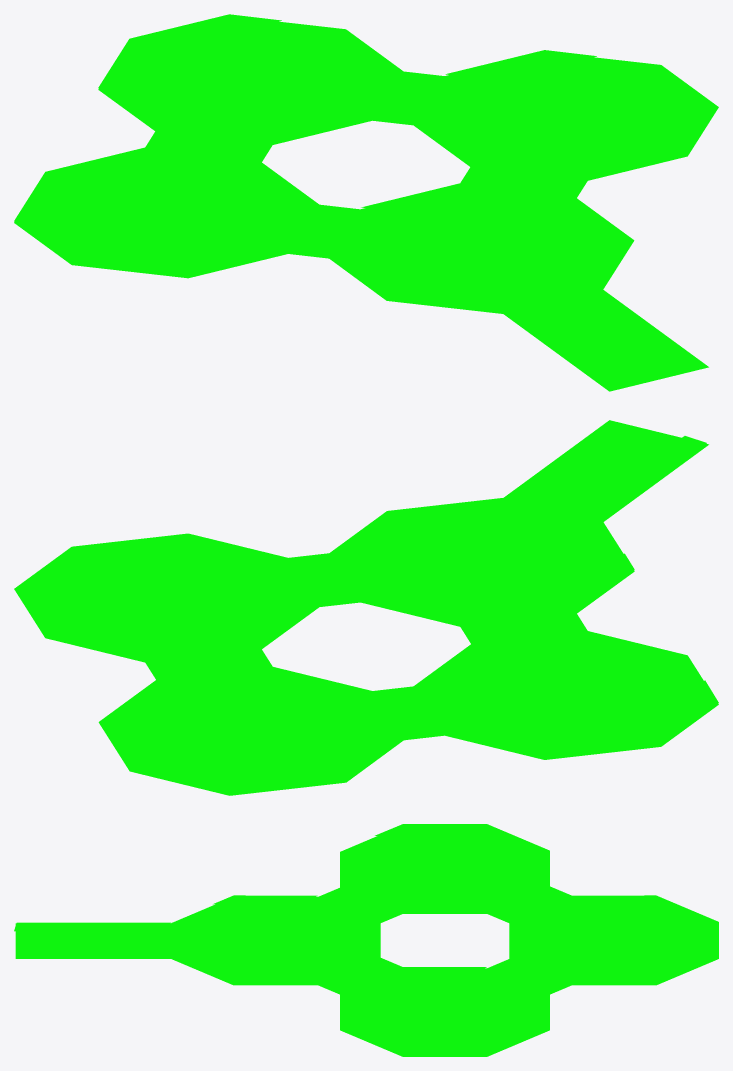
The model's file is s07b_nb2-floor.glb.
The picture shows the model from 3 angles, top to bottom: view 1: azimuth 30°, elevation 25°; view 2: azimuth 150°, elevation 25°; view 3: azimuth 270°, elevation 25°; orthographic projection. The views are drawn at different scales.
Parts seen in each view (by area): view 1: collision_floor-colonly; view 2: collision_floor-colonly; view 3: collision_floor-colonly.
Boxes of the visible parts, x1,y1,x2,y2 form: collision_floor-colonly: (14, 14, 718, 391); collision_floor-colonly: (14, 420, 718, 795); collision_floor-colonly: (14, 824, 718, 1056).
Size of the model in its own units: 38.86 by 0.0996 by 50.02.
